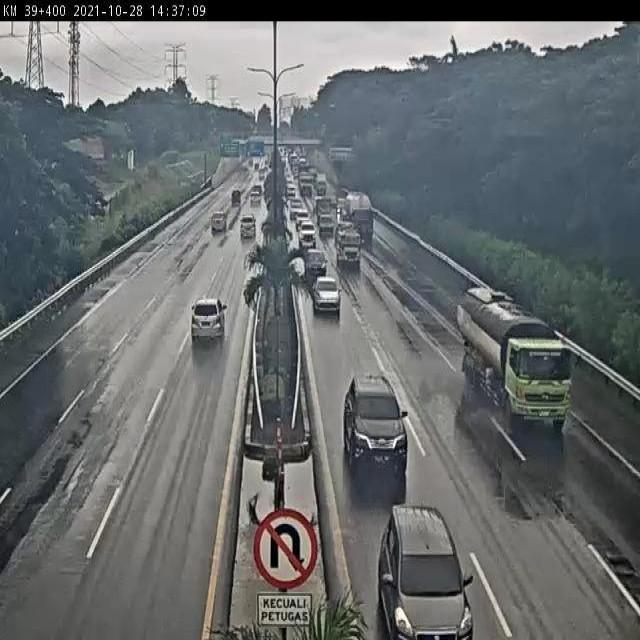big truck: (453, 281, 575, 439), (339, 186, 381, 246)
car: (372, 494, 479, 640), (339, 368, 414, 477), (188, 293, 229, 343), (306, 272, 345, 317), (303, 245, 329, 276), (297, 219, 318, 248), (239, 212, 258, 241), (294, 208, 312, 232), (210, 209, 228, 232), (319, 214, 335, 238), (230, 185, 244, 207), (248, 191, 262, 208)
